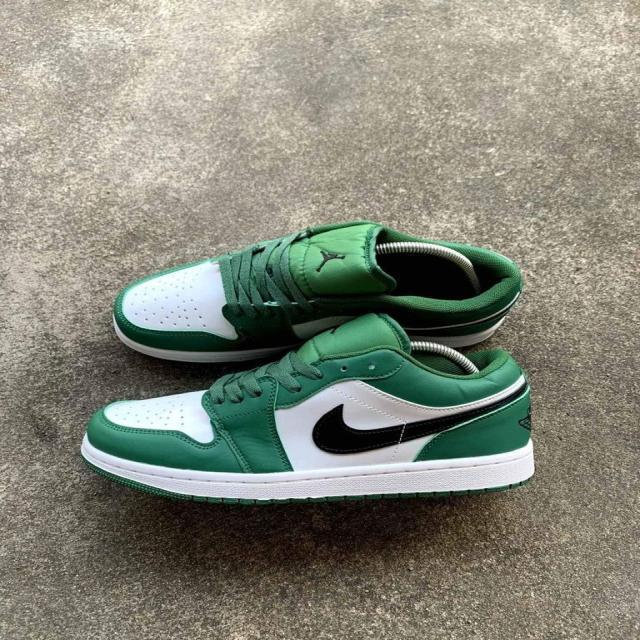nike fake jordan 1: (75, 313, 538, 502), (110, 222, 522, 366)
